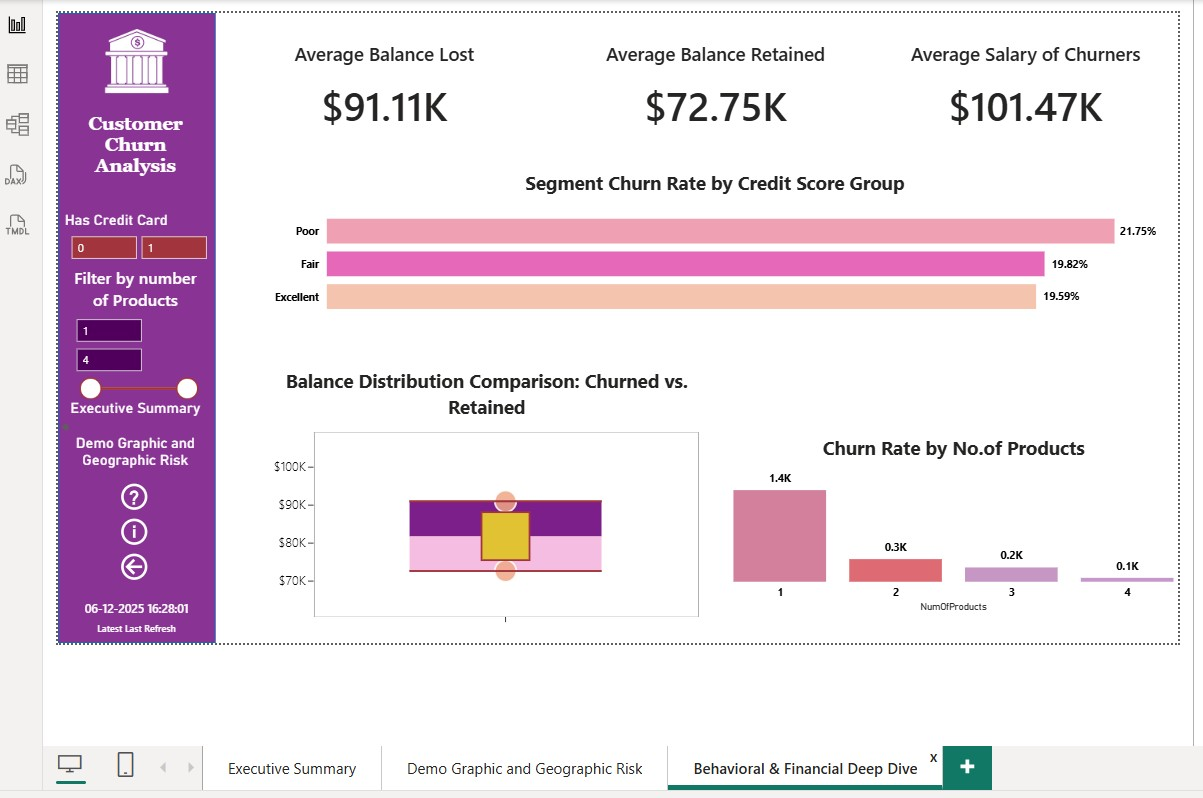

This screenshot's page, from the dashboard's own definition file:
{"tool":"powerbi","page":{"name":"Behavioral & Financial Deep Dive","canvas":[1280,720],"ordinal":2},"visuals":[{"type":"clusteredColumnChart","title":"Churn Rate by No.of Products","fields":{"Y":["Sum(Churn_Modelling.Exited)"],"Category":["Churn_Modelling.NumOfProducts"]},"box":[767.1,481.4,512.9,208.6],"z":0},{"type":"barChart","fields":{"Category":["Churn_Modelling.Credit Score Group"],"Y":["Churn_Modelling.Segment Churn Rate"]},"box":[241.4,178.6,1018.6,181.4],"z":1000},{"type":"BoxandWhiskerByMAQ1823AD39DT234AB532063E128AX","title":"Balance Distribution Comparison: Churned vs. Retained","fields":{"measure":["Avg(Churn_Modelling.Balance)"],"category":["Churn_Modelling.Churn Status"]},"box":[241.4,405.7,497.1,310],"z":2000},{"type":"shape","box":[0,0,180,720],"z":3000},{"type":"textbox","box":[0,110,177.1,82.9],"z":4000},{"type":"image","box":[0,0,180,110],"z":5000},{"type":"card","fields":{"Values":["Max(Query2.Last Refresh)"]},"box":[0,664.3,180,51.4],"z":6000},{"type":"card","title":"Average Balance Lost","fields":{"Values":["Churn_Modelling.Average Balance Lost"]},"box":[202.9,31.4,340,117.1],"z":7000},{"type":"card","title":"Average Salary of Churners","fields":{"Values":["Churn_Modelling.Avg Salary of Churners"]},"box":[931.4,31.4,348.6,117.1],"z":8000},{"type":"card","title":"Average Balance Retained","fields":{"Values":["Churn_Modelling.Avg Balance - Retained"]},"box":[581.4,31.4,340,117.1],"z":9000},{"type":"actionButton","title":"Demo Graphic and Geographic Risk","box":[0,481.4,177.1,40],"z":10000},{"type":"actionButton","title":"Executive Summary","box":[0,441.4,177.1,40],"z":11000},{"type":"actionButton","box":[67.1,612.9,41.4,40],"z":11001},{"type":"actionButton","box":[67.1,572.9,41.4,40],"z":11002},{"type":"actionButton","box":[67.1,532.9,41.4,40],"z":11003},{"type":"slicer","title":"Has Credit Card","fields":{"Values":["Churn_Modelling.HasCrCard"]},"box":[2.9,225.7,177.1,64.3],"z":11004},{"type":"slicer","title":"Filter by number of Products","fields":{"Values":["Churn_Modelling.NumOfProducts"]},"box":[8.6,290,160,151.4],"z":11005}]}

Visuals, with their boxes on the page's 1280x720 design canvas (x1, y1, x2, y2). These are canvas units, not pixel positions in the 1203x798 screenshot, which may show the page scaled, cropped or inside an application window:
"Churn Rate by No.of Products" clusteredColumnChart: <box>767,481,1280,690</box>
barChart - Churn_Modelling.Credit Score Group x Churn_Modelling.Segment Churn Rate: <box>241,179,1260,360</box>
"Balance Distribution Comparison: Churned vs. Retained" BoxandWhiskerByMAQ1823AD39DT234AB532063E128AX: <box>241,406,738,716</box>
shape: <box>0,0,180,720</box>
textbox: <box>0,110,177,193</box>
image: <box>0,0,180,110</box>
card - Max(Query2.Last Refresh): <box>0,664,180,716</box>
"Average Balance Lost" card: <box>203,31,543,148</box>
"Average Salary of Churners" card: <box>931,31,1280,148</box>
"Average Balance Retained" card: <box>581,31,921,148</box>
"Demo Graphic and Geographic Risk" actionButton: <box>0,481,177,521</box>
"Executive Summary" actionButton: <box>0,441,177,481</box>
actionButton: <box>67,613,108,653</box>
actionButton: <box>67,573,108,613</box>
actionButton: <box>67,533,108,573</box>
"Has Credit Card" slicer: <box>3,226,180,290</box>
"Filter by number of Products" slicer: <box>9,290,169,441</box>
